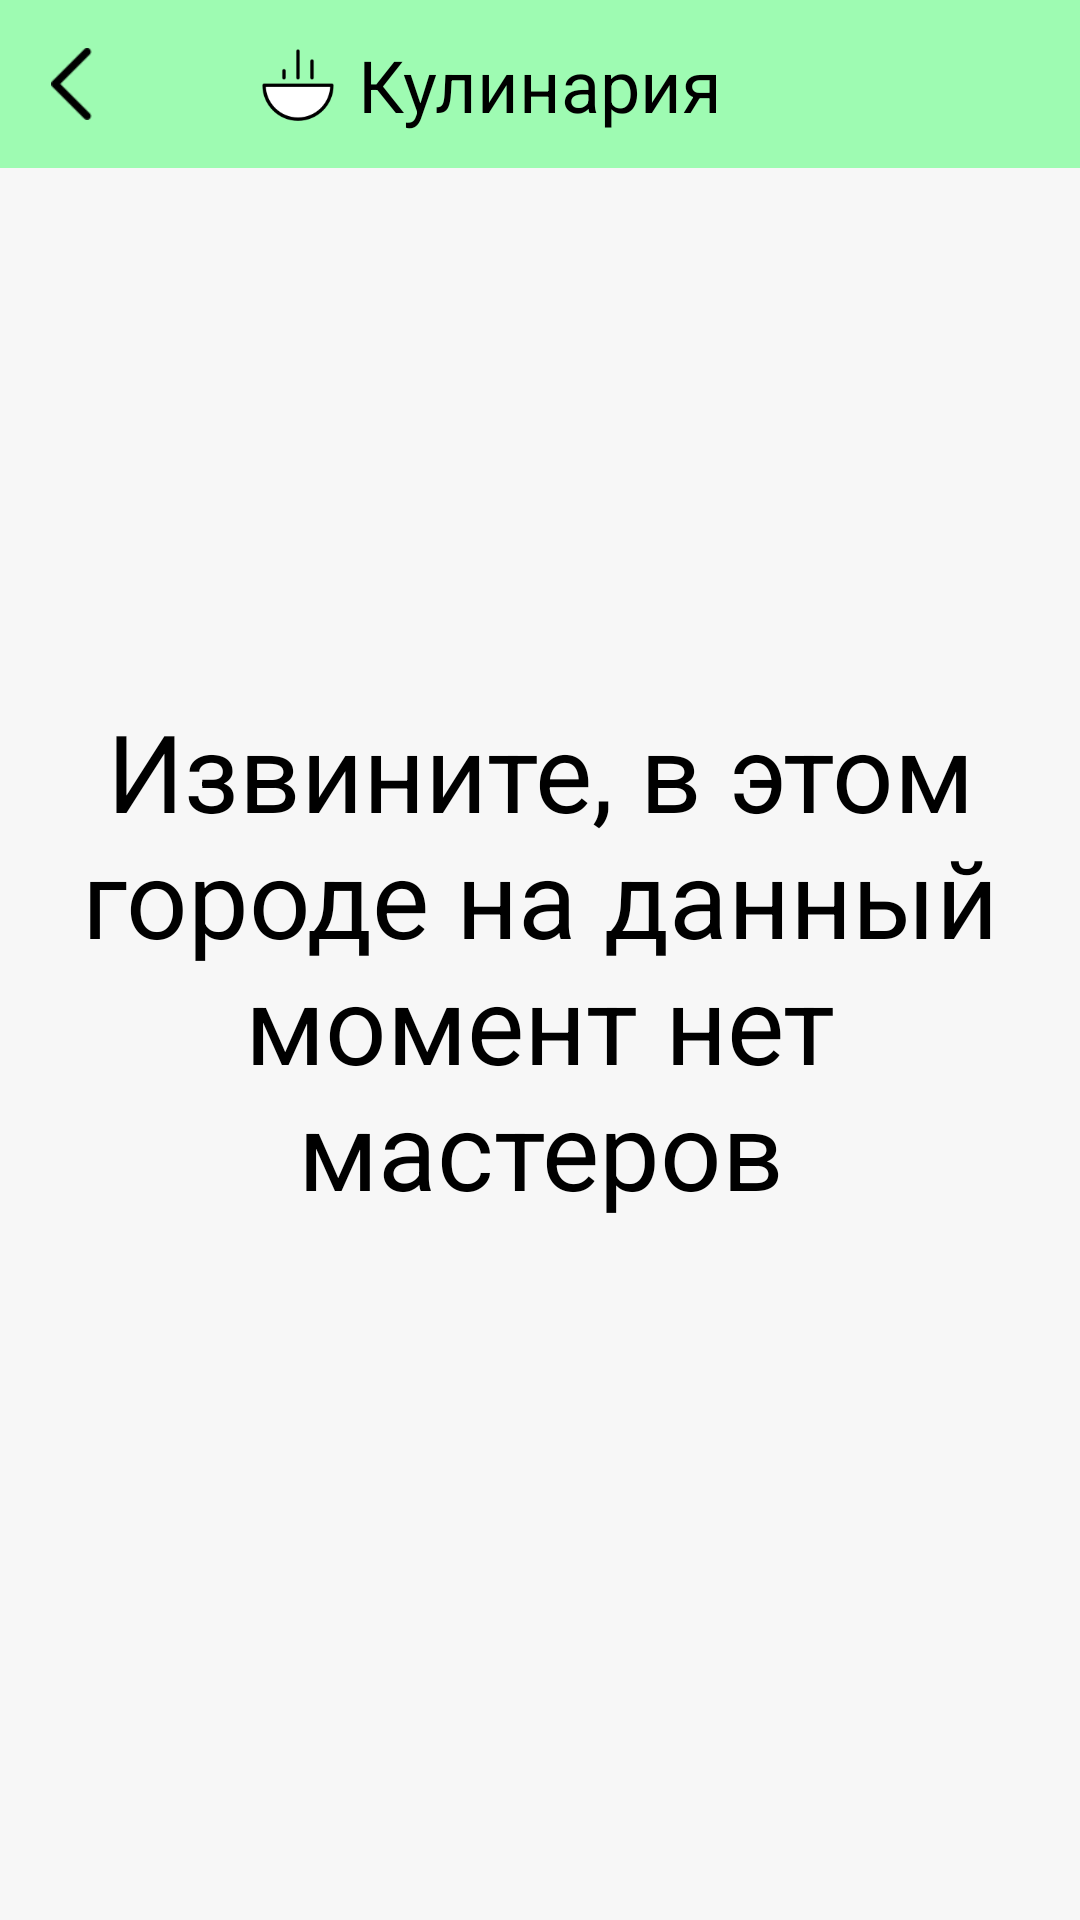

Locate icon controls on the screen. Image size 1080 × 1920, boxes as {"left": x1, "top": y1, "right": x2, "bottom": y2}.
arrow back: {"left": 51, "top": 48, "right": 92, "bottom": 120}
cooking: {"left": 262, "top": 49, "right": 334, "bottom": 121}
